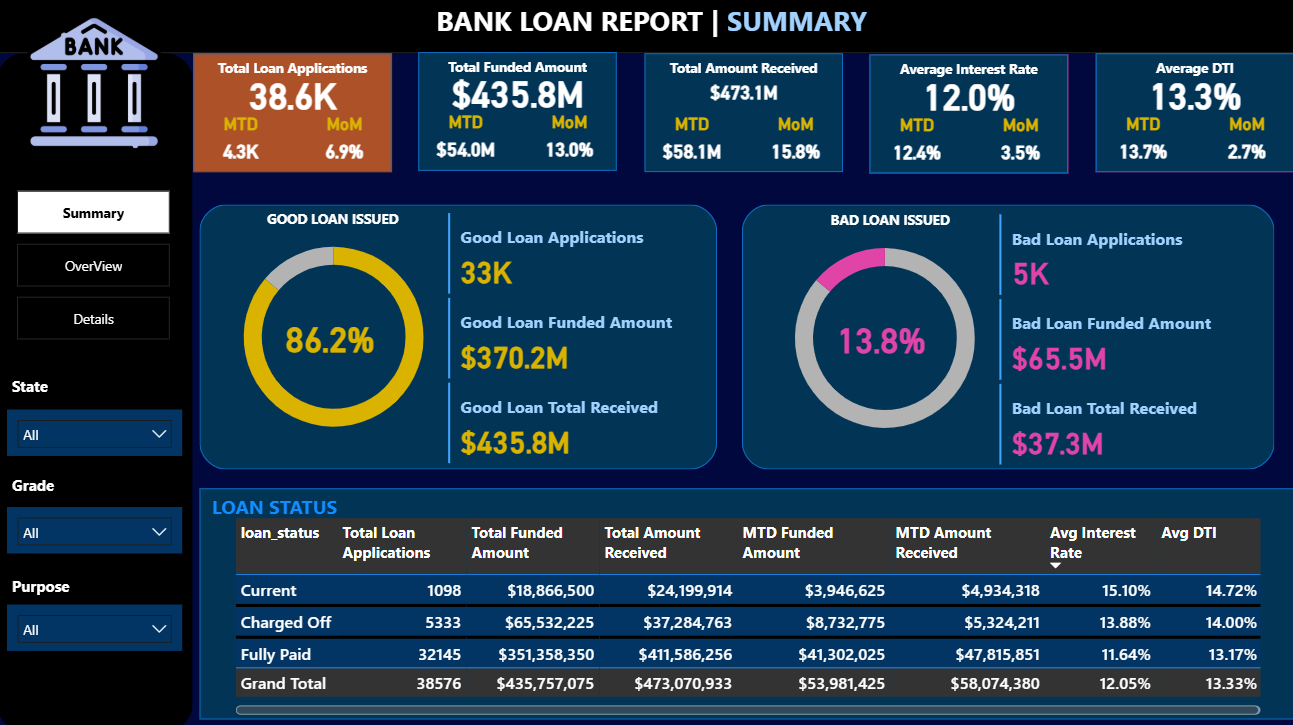

The page's visual inventory and layout, read from the dashboard file:
{"tool":"powerbi","page":{"name":"Summary","canvas":[1280,720],"ordinal":0},"visuals":[{"type":"shape","box":[0,54.9,192.1,665.5],"z":0},{"type":"shape","box":[0,0,1280.3,54.9],"z":1000},{"type":"textbox","box":[404.8,0,467.9,54.9],"z":2000},{"type":"shape","box":[413.5,54,194.9,116.6],"z":3000,"group":"g2"},{"type":"group","id":"g1","title":"Group 1","box":[192.1,54.9,194.9,116.6],"z":3000},{"type":"shape","box":[192.1,54.9,194.9,116.6],"z":3000,"group":"g1"},{"type":"shape","box":[635.2,55.2,194.9,116.6],"z":3000,"group":"g3"},{"type":"shape","box":[1078.5,55.2,194.9,116.6],"z":3000,"group":"g5"},{"type":"shape","box":[856.9,56.4,194.9,116.6],"z":3000,"group":"g4"},{"type":"card","fields":{"Values":["financial_loan.Total Funded Amount"]},"box":[432.7,54,156.4,78.2],"z":4000,"group":"g2"},{"type":"card","fields":{"Values":["financial_loan.Total Loan Applications"]},"box":[211.3,54.9,156.4,78.2],"z":4000,"group":"g1"},{"type":"card","fields":{"Values":["financial_loan.Total Amount Received"]},"box":[654.4,55.2,156.4,78.2],"z":4000,"group":"g3"},{"type":"card","fields":{"Values":["financial_loan.Avg DTI"]},"box":[1097.7,55.2,156.4,78.2],"z":4000,"group":"g5"},{"type":"card","fields":{"Values":["financial_loan.Avg Interest Rate"]},"box":[876.1,56.4,156.4,78.2],"z":4000,"group":"g4"},{"type":"shape","box":[198.8,482.2,1081,227],"z":4000},{"type":"group","id":"g2","title":"Group 1","box":[413.5,54,195.1,116.6],"z":5000},{"type":"textbox","box":[413.5,54,194.9,27.4],"z":5000,"group":"g2"},{"type":"textbox","box":[192.1,54.9,194.9,27.4],"z":5000,"group":"g1"},{"type":"textbox","box":[635.2,55.2,194.9,27.4],"z":5000,"group":"g3"},{"type":"textbox","box":[1078.5,55.2,194.9,27.4],"z":5000,"group":"g5"},{"type":"textbox","box":[856.9,56.4,194.9,27.4],"z":5000,"group":"g4"},{"type":"card","title":"MTD","fields":{"Values":["financial_loan.MTD  Funded Amount"]},"box":[413.5,113,93.3,56.3],"z":6000,"group":"g2"},{"type":"card","title":"MTD","fields":{"Values":["financial_loan.MTD Loan Applications"]},"box":[192.1,113.9,93.3,56.3],"z":6000,"group":"g1"},{"type":"card","title":"MTD","fields":{"Values":["financial_loan.MTD Amount Received"]},"box":[635.2,114.2,93.3,56.3],"z":6000,"group":"g3"},{"type":"card","title":"MTD","fields":{"Values":["financial_loan.MTD Avg DTI"]},"box":[1078.5,114.2,93.3,56.3],"z":6000,"group":"g5"},{"type":"card","title":"MTD","fields":{"Values":["financial_loan.MTD Avg Int Rate"]},"box":[856.9,115.4,93.3,56.3],"z":6000,"group":"g4"},{"type":"shape","box":[198.8,203.7,508,260.1],"z":6000},{"type":"donutChart","fields":{"Category":["financial_loan.Good v Bad Loan"],"Y":["financial_loan.Total Loan Applications"]},"box":[214.7,218.4,231.9,230.7],"z":6000,"group":"g6"},{"type":"donutChart","fields":{"Category":["financial_loan.Good v Bad Loan"],"Y":["financial_loan.Total Loan Applications"]},"box":[755.8,219.6,231.9,230.7],"z":6000,"group":"g7"},{"type":"group","id":"g3","title":"Group 1","box":[635.2,55.2,195.1,116.6],"z":7000},{"type":"card","title":"MoM","fields":{"Values":["financial_loan.MoM Funded Amount"]},"box":[515,113,93.3,56.3],"z":7000,"group":"g2"},{"type":"card","title":"MoM","fields":{"Values":["financial_loan.MOM Loan Applications"]},"box":[293.6,113.9,93.3,56.3],"z":7000,"group":"g1"},{"type":"card","title":"MoM","fields":{"Values":["financial_loan.MoM Amount Received"]},"box":[736.7,114.2,93.3,56.3],"z":7000,"group":"g3"},{"type":"card","title":"MoM","fields":{"Values":["financial_loan.MoM Avg DTI"]},"box":[1180,114.2,93.3,56.3],"z":7000,"group":"g5"},{"type":"card","title":"MoM","fields":{"Values":["financial_loan.MoM Avg Int Rate"]},"box":[958.4,115.4,93.3,56.3],"z":7000,"group":"g4"},{"type":"card","fields":{"Values":["financial_loan.Good Loan %"]},"box":[249.1,294.5,155.8,78.5],"z":7000,"group":"g6"},{"type":"card","fields":{"Values":["financial_loan.Bad Loan %"]},"box":[790.2,295.7,155.8,78.5],"z":7000,"group":"g7"},{"type":"group","id":"g4","title":"Group 1","box":[856.9,56.4,195.1,116.6],"z":8000},{"type":"group","id":"g5","title":"Group 1","box":[1078.5,55.2,195.1,116.6],"z":9000},{"type":"shape","box":[731.3,203.7,522.7,260.1],"z":10000},{"type":"textbox","box":[260.1,203.7,144.8,35.6],"z":11000},{"type":"group","id":"g6","title":"Group 2","box":[214.7,207.4,472.4,256.4],"z":12000},{"type":"cardVisual","fields":{"Data":["financial_loan.Good Loan Applications","financial_loan.Good Loan Funded Amount","financial_loan.Good Loan Total Received"]},"box":[438,207.4,249.1,256.4],"z":12001,"group":"g6"},{"type":"cardVisual","fields":{"Data":["financial_loan.Bad Loan Applications","financial_loan.Bad Loan Funded Amount","financial_loan.Bad Loan Total Received"]},"box":[979.1,208.6,249.1,256.4],"z":12001,"group":"g7"},{"type":"group","id":"g7","title":"Group 2","box":[755.8,208.6,472.4,256.4],"z":13000},{"type":"textbox","box":[802.5,204.9,148.5,33.1],"z":14000},{"type":"tableEx","fields":{"Values":["financial_loan.loan_status","financial_loan.Total Loan Applications","financial_loan.Total Funded Amount","financial_loan.Total Amount Received","financial_loan.MTD  Funded Amount","financial_loan.MTD Amount Received","financial_loan.Avg Interest Rate","financial_loan.Avg DTI"]},"box":[228.2,506.8,1017.2,202.5],"z":15000},{"type":"textbox","box":[206.1,482.2,300.6,41.7],"z":16000},{"type":"slicer","fields":{"Values":["financial_loan.address_state"]},"box":[9.8,404.9,171.8,45.4],"z":17000},{"type":"textbox","box":[9.8,366.9,67.5,41.7],"z":18000},{"type":"slicer","fields":{"Values":["financial_loan.grade"]},"box":[9.8,500.6,171.8,45.4],"z":19000},{"type":"textbox","box":[9.8,463.8,67.5,36.8],"z":20000},{"type":"slicer","fields":{"Values":["financial_loan.purpose"]},"box":[9.8,596.3,171.8,45.4],"z":21000},{"type":"textbox","box":[9.8,563.2,73.6,33.1],"z":22000},{"type":"pageNavigator","box":[19.6,190.2,150.9,147.2],"z":22001}]}

Visuals, with their boxes in screenshot pixels (x1, y1, x2, y2), scaled from the page's 1280x720 canvas onto the 1293x725 screenshot:
shape: [0,55,194,724]
shape: [0,0,1292,55]
textbox: [409,0,882,55]
shape: [418,54,615,172]
"Group 1" group: [194,55,391,173]
shape: [194,55,391,173]
shape: [642,56,839,173]
shape: [1089,56,1286,173]
shape: [866,57,1062,174]
card - financial_loan.Total Funded Amount: [437,54,595,133]
card - financial_loan.Total Loan Applications: [213,55,371,134]
card - financial_loan.Total Amount Received: [661,56,819,134]
card - financial_loan.Avg DTI: [1109,56,1267,134]
card - financial_loan.Avg Interest Rate: [885,57,1043,136]
shape: [201,486,1292,714]
"Group 1" group: [418,54,615,172]
textbox: [418,54,615,82]
textbox: [194,55,391,83]
textbox: [642,56,839,83]
textbox: [1089,56,1286,83]
textbox: [866,57,1062,84]
"MTD" card: [418,114,512,170]
"MTD" card: [194,115,288,171]
"MTD" card: [642,115,736,172]
"MTD" card: [1089,115,1184,172]
"MTD" card: [866,116,960,173]
shape: [201,205,714,467]
donutChart - financial_loan.Good v Bad Loan x financial_loan.Total Loan Applications: [217,220,451,452]
donutChart - financial_loan.Good v Bad Loan x financial_loan.Total Loan Applications: [763,221,998,453]
"Group 1" group: [642,56,839,173]
"MoM" card: [520,114,614,170]
"MoM" card: [297,115,391,171]
"MoM" card: [744,115,838,172]
"MoM" card: [1192,115,1286,172]
"MoM" card: [968,116,1062,173]
card - financial_loan.Good Loan %: [252,297,409,376]
card - financial_loan.Bad Loan %: [798,298,956,377]
"Group 1" group: [866,57,1063,174]
"Group 1" group: [1089,56,1287,173]
shape: [739,205,1267,467]
textbox: [263,205,409,241]
"Group 2" group: [217,209,694,467]
cardVisual - financial_loan.Good Loan Applications x financial_loan.Good Loan Funded Amount: [442,209,694,467]
cardVisual - financial_loan.Bad Loan Applications x financial_loan.Bad Loan Funded Amount: [989,210,1241,468]
"Group 2" group: [763,210,1241,468]
textbox: [811,206,961,240]
tableEx - financial_loan.loan_status x financial_loan.Total Loan Applications: [231,510,1258,714]
textbox: [208,486,512,528]
slicer - financial_loan.address_state: [10,408,183,453]
textbox: [10,369,78,411]
slicer - financial_loan.grade: [10,504,183,550]
textbox: [10,467,78,504]
slicer - financial_loan.purpose: [10,600,183,646]
textbox: [10,567,84,600]
pageNavigator: [20,192,172,340]
